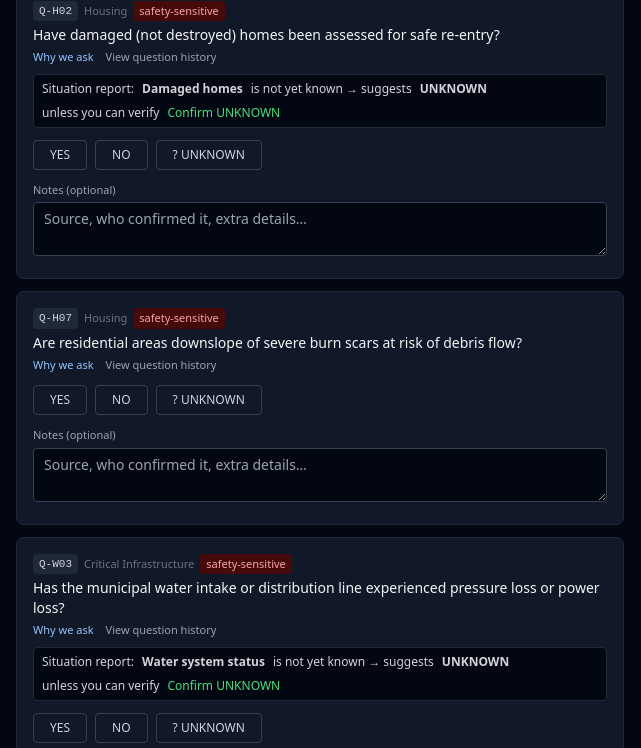
Test: follow-up questions appear only after a YES
(page scrolled)
Expected: the element "Q-H07a" is not shown
Click the radio button labelled "YES" below "Q-H07".
click(60, 400)  # box [33,385,87,415]
(page scrolled)
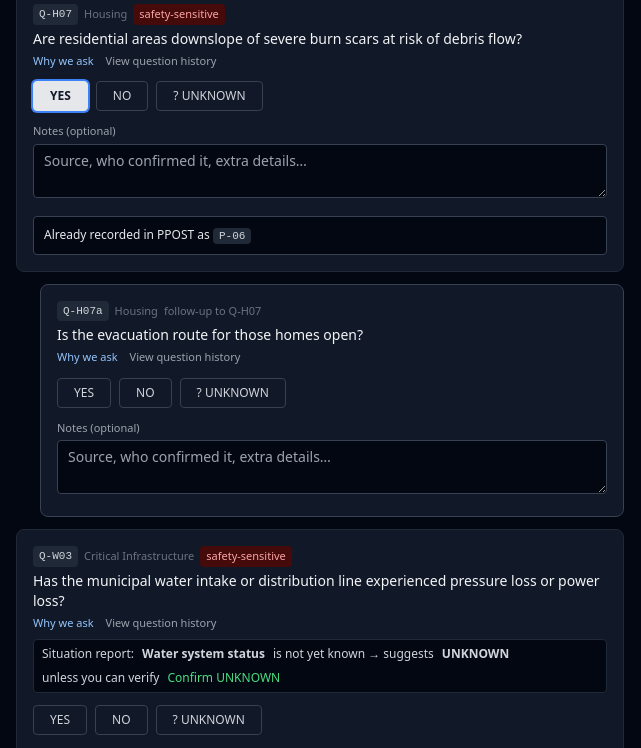
Now the element "Q-H07a" is shown, box [40,284,624,517]
